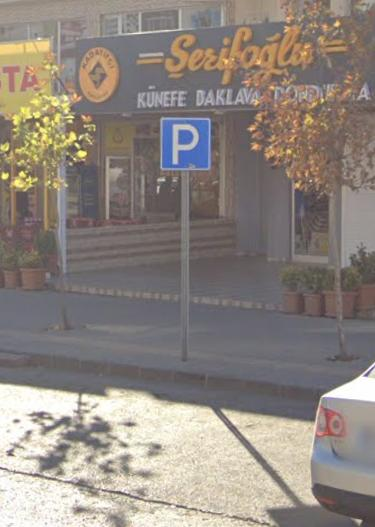park: (167, 122, 203, 165)
